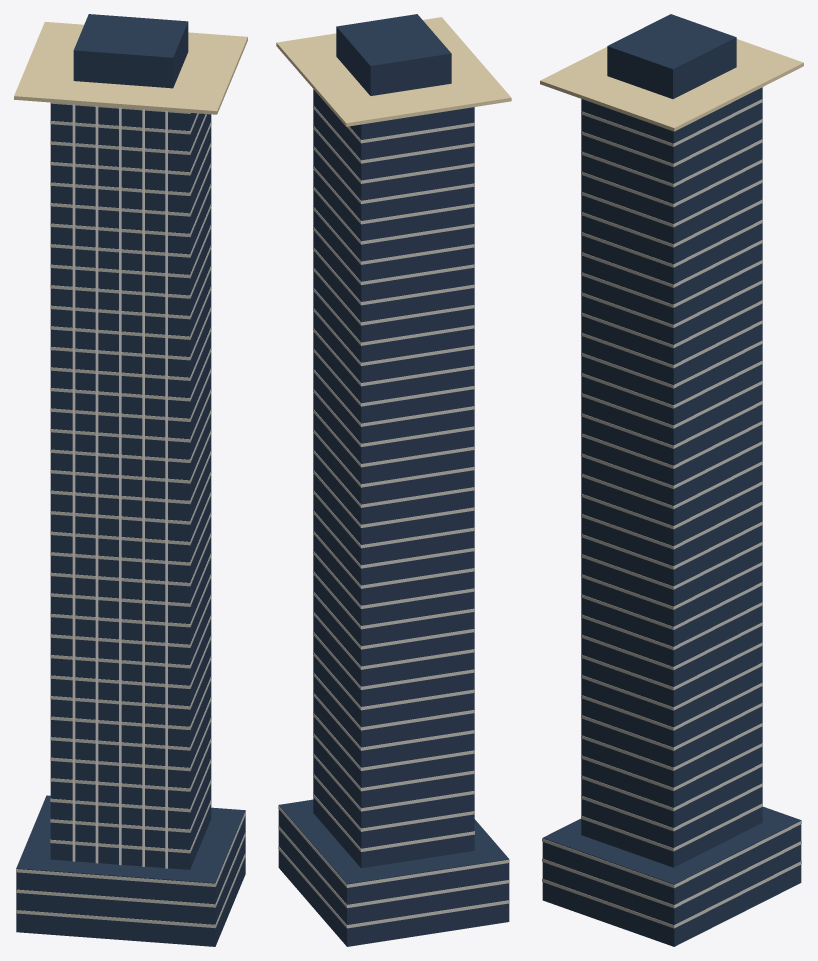
File: executive-tower-b.glb
3 renders of one model, left to right at view 1: azimuth 30°, elevation 25°; view 2: azimuth 150°, elevation 25°; view 3: azimuth 270°, elevation 25°, orthographic. The views are drawn at different scales.
Visible parts, largest first — view 1: B_399870575_executive-tower-b, B_399870575_executive-tower-b_gold, mullion.011, mullion.010, mullion.012, mullion.013, mullion.014, band.119, band.117, band.118, band.122, band.129 (+34 smaller); view 2: B_399870575_executive-tower-b, B_399870575_executive-tower-b_gold, band.118, band.119, band.117, band.125, band.153, band.121, band.144, band.120, band.124, band.130 (+29 smaller); view 3: B_399870575_executive-tower-b, B_399870575_executive-tower-b_gold, band.119, band.117, band.118, band.126, band.133, band.152, band.121, band.123, band.140, band.143 (+29 smaller).
Part boxes in pixels (left/top/right/bottom): B_399870575_executive-tower-b: left=16, top=14, right=245, bottom=946; B_399870575_executive-tower-b_gold: left=14, top=22, right=247, bottom=114; mullion.011: left=95, top=106, right=98, bottom=863; mullion.010: left=72, top=104, right=75, bottom=861; mullion.012: left=119, top=107, right=121, bottom=865; mullion.013: left=142, top=109, right=144, bottom=866; mullion.014: left=165, top=111, right=167, bottom=868; band.119: left=16, top=805, right=245, bottom=886; band.117: left=16, top=852, right=245, bottom=928; band.118: left=16, top=831, right=245, bottom=907; band.122: left=50, top=758, right=211, bottom=812; band.129: left=50, top=614, right=211, bottom=668; B_399870575_executive-tower-b: left=278, top=14, right=509, bottom=946; B_399870575_executive-tower-b_gold: left=276, top=17, right=511, bottom=126; band.118: left=278, top=826, right=509, bottom=908; band.119: left=278, top=805, right=509, bottom=887; band.117: left=278, top=846, right=509, bottom=928; band.125: left=313, top=692, right=474, bottom=750; band.153: left=313, top=125, right=474, bottom=183; band.121: left=313, top=773, right=474, bottom=831; band.144: left=313, top=307, right=474, bottom=365; band.120: left=313, top=793, right=474, bottom=851; band.124: left=313, top=712, right=474, bottom=770; band.130: left=313, top=591, right=474, bottom=649; B_399870575_executive-tower-b: left=542, top=14, right=801, bottom=946; B_399870575_executive-tower-b_gold: left=540, top=39, right=803, bottom=131; band.119: left=542, top=820, right=801, bottom=888; band.117: left=542, top=861, right=801, bottom=928; band.118: left=542, top=841, right=801, bottom=908; band.126: left=581, top=682, right=762, bottom=730; band.133: left=581, top=541, right=762, bottom=589; band.152: left=581, top=159, right=762, bottom=207; band.121: left=581, top=783, right=762, bottom=831; band.123: left=581, top=743, right=762, bottom=790; band.140: left=581, top=400, right=762, bottom=448; band.143: left=581, top=340, right=762, bottom=388.
Bounding box in the file's own units: 54.17 × 190 × 53.48.
